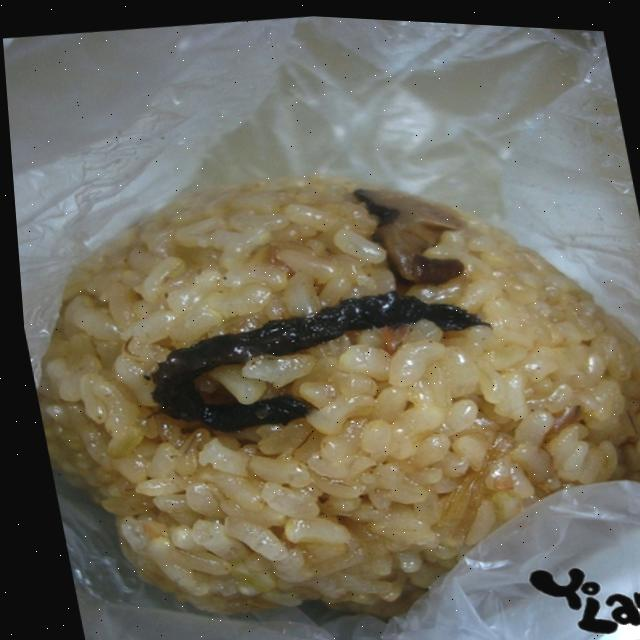米饭主食: (5, 87, 640, 640)
